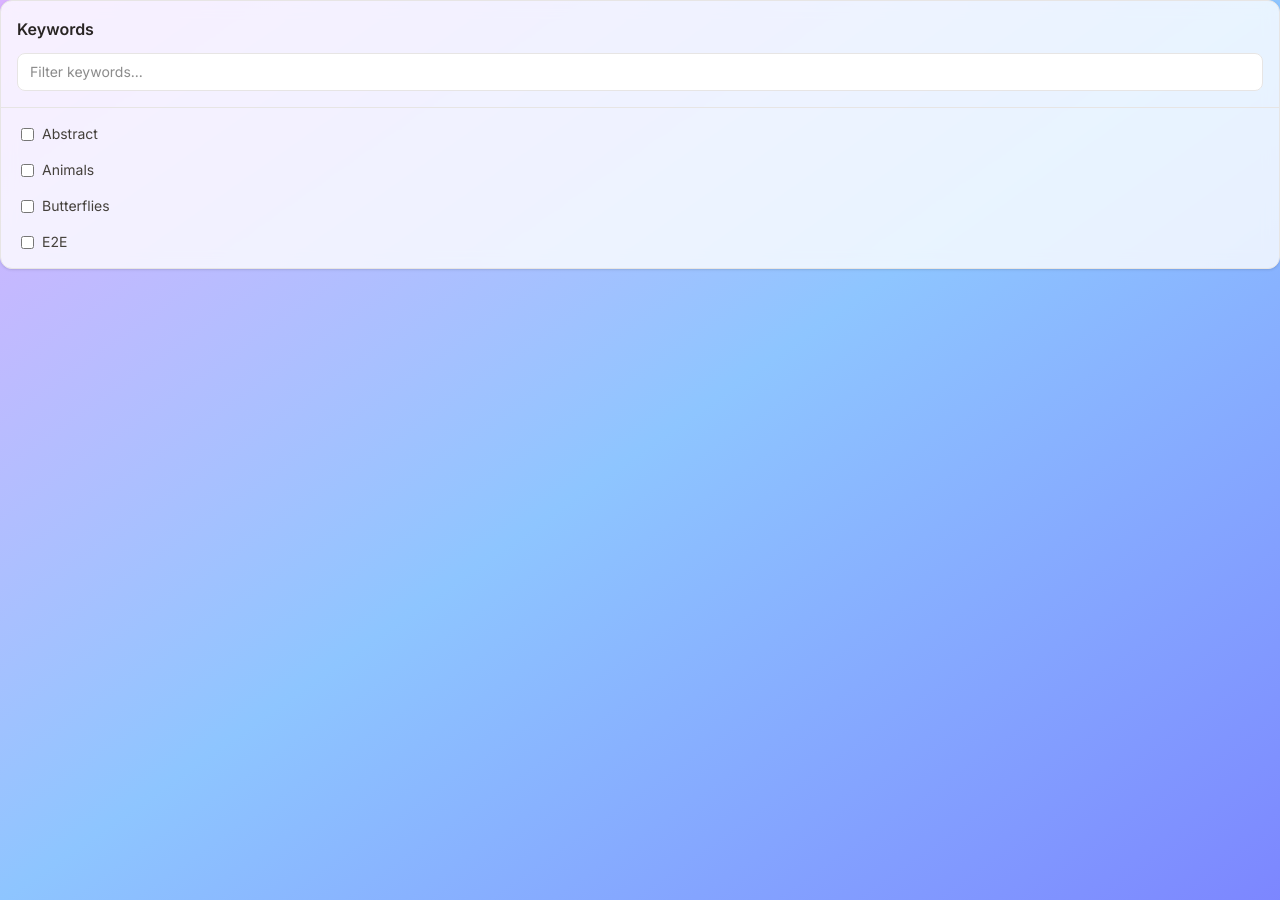
Test case: KeywordSidebar › filtering keywords › filters keywords by search input
Type "But" into the field with placeholder "Filter keywords..." at (640, 72), box [17, 53, 1263, 91]
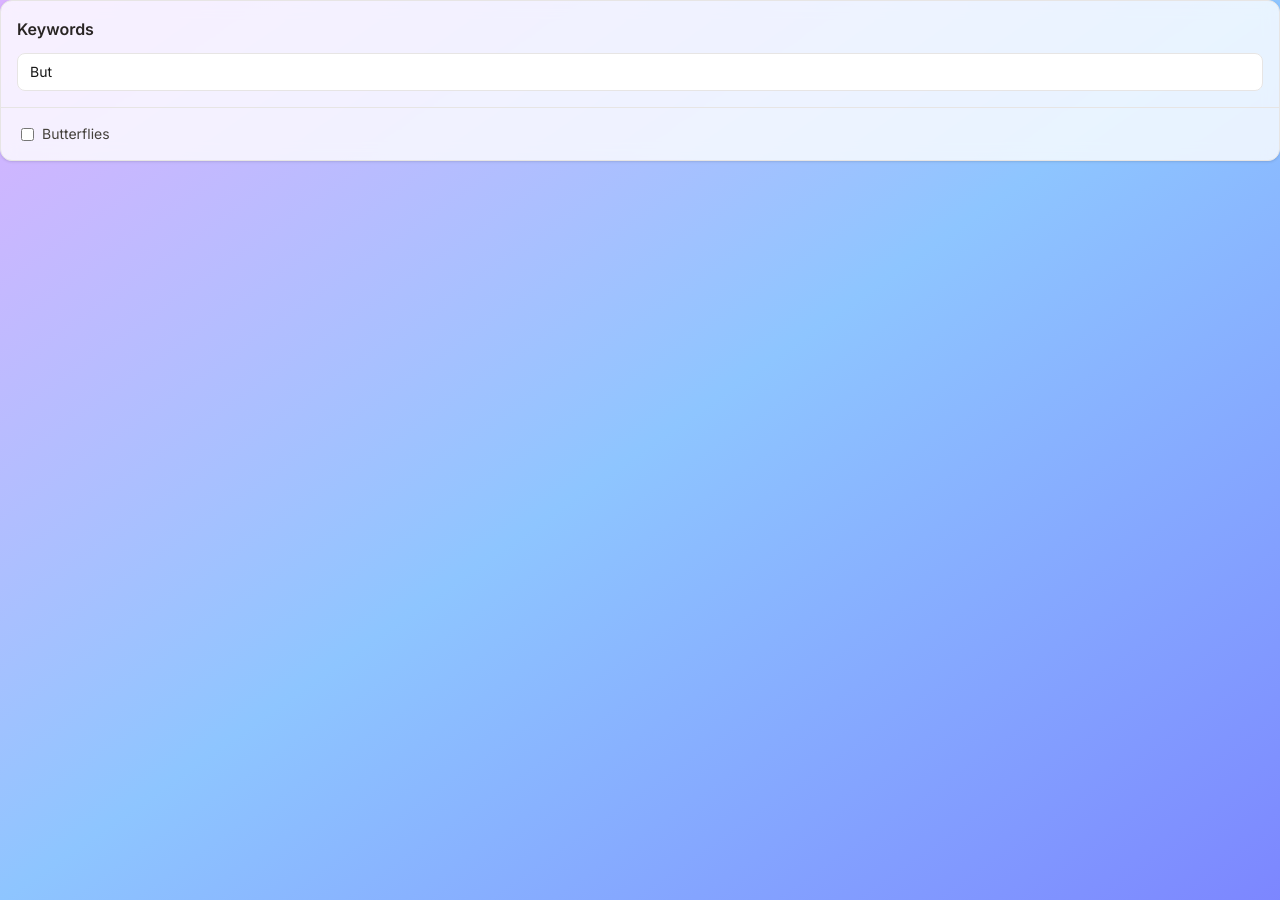
Check: the text "Butterflies" is shown, box [42, 125, 110, 142]
Check: the text "Abstract" is gone
Check: the text "Animals" is gone
